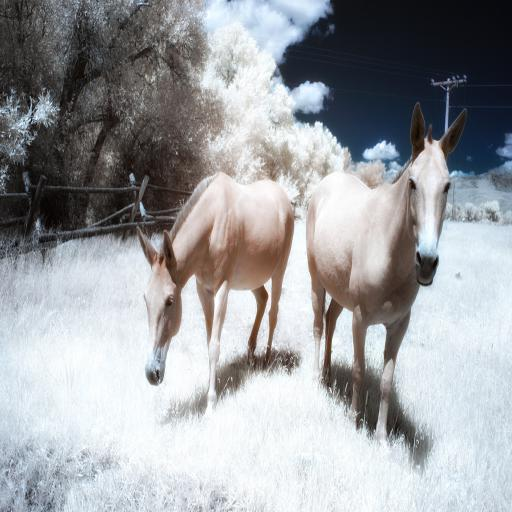horse: (304, 100, 468, 441), (134, 169, 294, 416)
